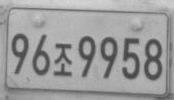5: (121, 36, 141, 79)
6: (31, 34, 50, 75)
8: (143, 37, 163, 81)
9: (98, 36, 118, 79), (10, 32, 29, 74), (77, 35, 96, 77)
조: (52, 42, 73, 76)
